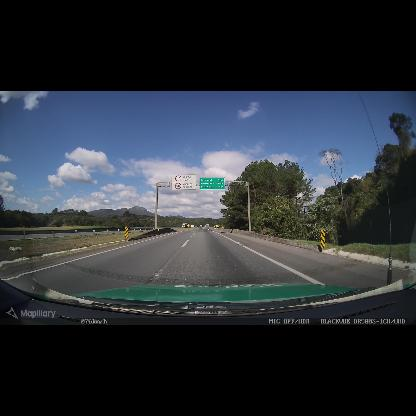O-MP: (321, 230, 325, 248), (125, 226, 129, 238)
R-19: (171, 174, 196, 190)
